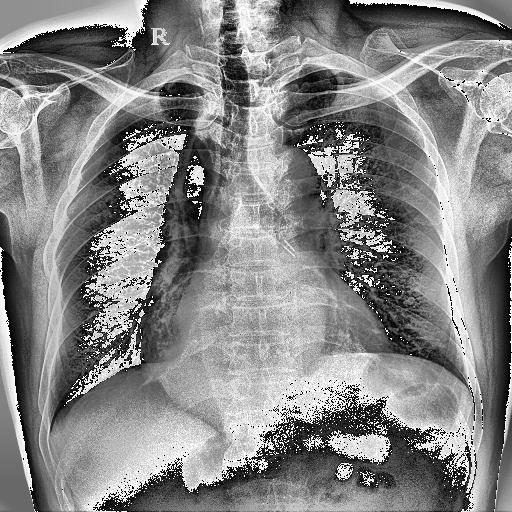0- Aortic enlargement: (193, 152, 347, 216)
1- Atelectasis: (152, 135, 193, 290)
3- Cardiomegaly: (110, 294, 414, 390)
7- Lung Opacity: (66, 182, 137, 232), (73, 169, 128, 231)
9- Other lesion: (130, 71, 249, 433), (132, 93, 218, 366), (262, 223, 308, 279), (240, 165, 270, 191)
